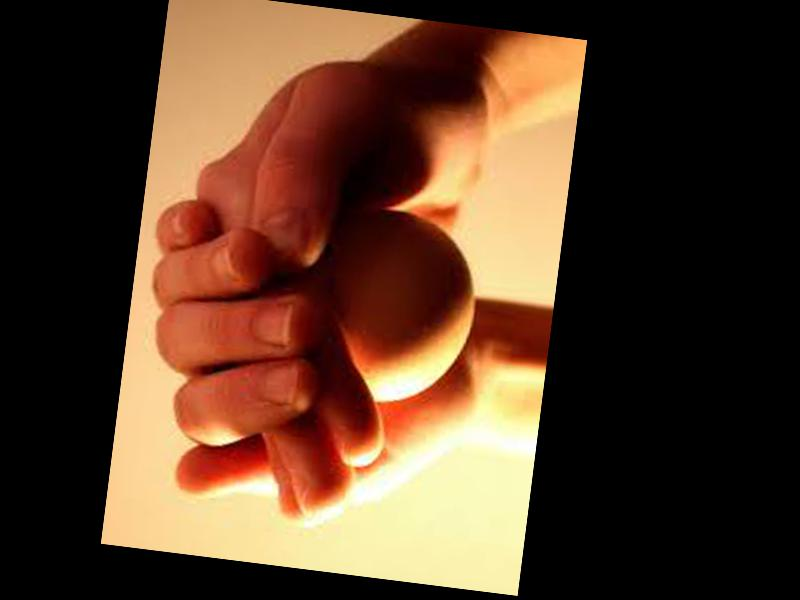Eggs: (315, 201, 485, 412)
